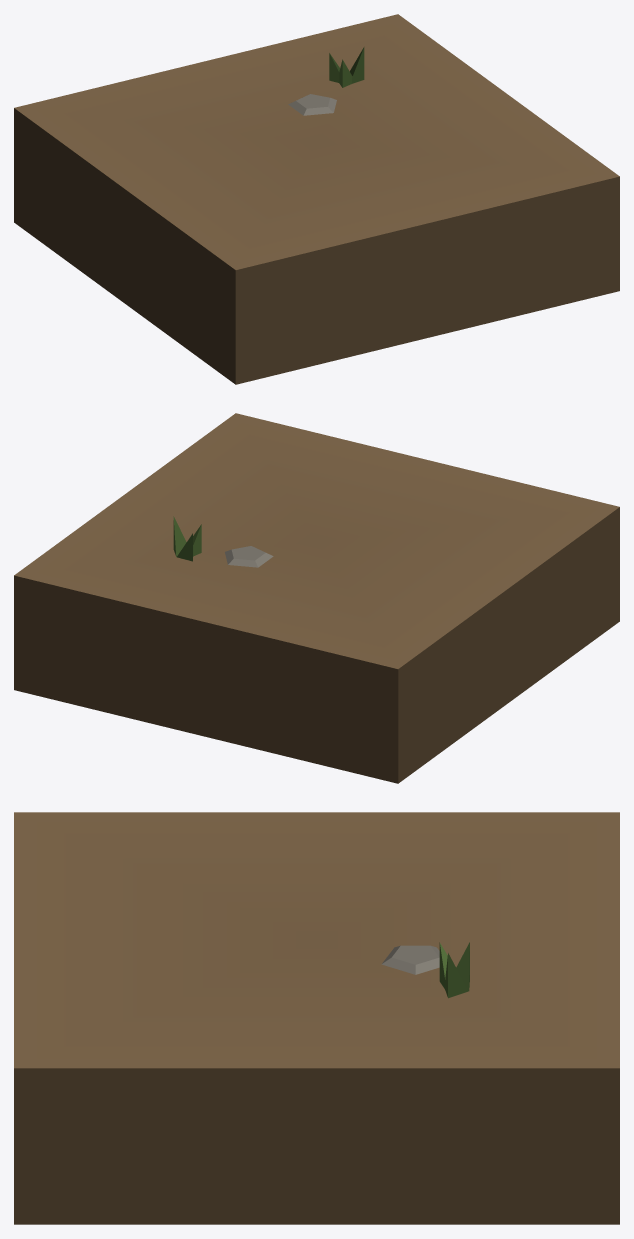
The model's file is tile_road_3.glb.
3 renders of one model, top to bottom at view 1: azimuth 30°, elevation 25°; view 2: azimuth 150°, elevation 25°; view 3: azimuth 270°, elevation 25°, orthographic. The views are drawn at different scales.
Visible parts, largest first — view 1: tile_road_3; view 2: tile_road_3; view 3: tile_road_3.
Part boxes in pixels (box(x1,y1,x2,y2)): tile_road_3: box(14, 14, 619, 384); tile_road_3: box(14, 413, 619, 783); tile_road_3: box(14, 812, 619, 1224).
Bounding box in the file's own units: 1 × 0.3783 × 1.
